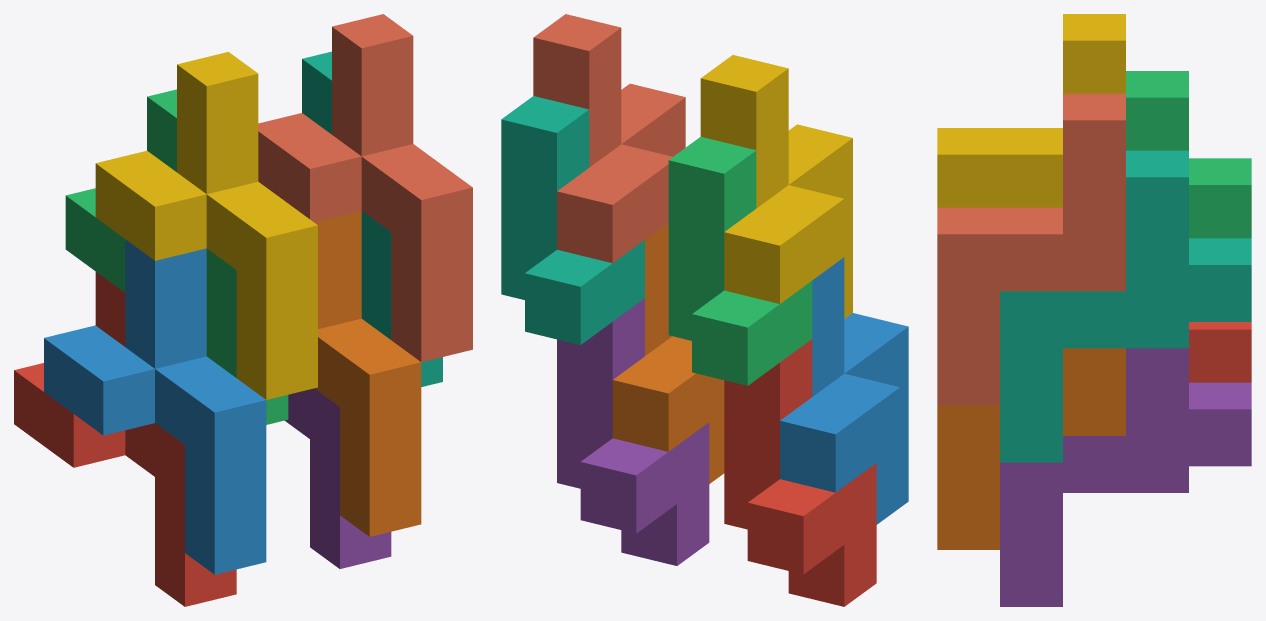
The model's file is tiling.obj.
3 views of the same model, side by side, from view 1: azimuth 30°, elevation 25°; view 2: azimuth 150°, elevation 25°; view 3: azimuth 270°, elevation 25° (orthographic). The views are drawn at different scales.
Parts seen in each view (by area): view 1: copy_1_domain_4, copy_1_domain_8, copy_1_domain_2, copy_1_domain_6, copy_1_domain_1, copy_1_domain_3, copy_1_domain_5, copy_1_domain_7; view 2: copy_1_domain_4, copy_1_domain_8, copy_1_domain_1, copy_1_domain_5, copy_1_domain_3, copy_1_domain_7, copy_1_domain_2, copy_1_domain_6; view 3: copy_1_domain_7, copy_1_domain_8, copy_1_domain_5, copy_1_domain_4, copy_1_domain_6, copy_1_domain_3, copy_1_domain_1.
Boxes of the visible parts, x1=… form: copy_1_domain_4: x1=95, y1=52, x2=317, y2=399; copy_1_domain_8: x1=258, y1=14, x2=472, y2=361; copy_1_domain_2: x1=44, y1=239, x2=266, y2=574; copy_1_domain_6: x1=314, y1=210, x2=421, y2=536; copy_1_domain_1: x1=14, y1=272, x2=236, y2=606; copy_1_domain_3: x1=65, y1=89, x2=288, y2=424; copy_1_domain_5: x1=285, y1=388, x2=391, y2=568; copy_1_domain_7: x1=302, y1=51, x2=442, y2=386; copy_1_domain_4: x1=700, y1=55, x2=852, y2=318; copy_1_domain_8: x1=533, y1=14, x2=685, y2=263; copy_1_domain_1: x1=724, y1=339, x2=876, y2=606; copy_1_domain_5: x1=557, y1=298, x2=709, y2=565; copy_1_domain_3: x1=668, y1=136, x2=812, y2=385; copy_1_domain_7: x1=501, y1=96, x2=644, y2=344; copy_1_domain_2: x1=780, y1=257, x2=908, y2=524; copy_1_domain_6: x1=612, y1=222, x2=724, y2=483; copy_1_domain_7: x1=1000, y1=150, x2=1251, y2=462; copy_1_domain_8: x1=937, y1=93, x2=1125, y2=405; copy_1_domain_5: x1=1000, y1=348, x2=1251, y2=606; copy_1_domain_4: x1=937, y1=14, x2=1125, y2=207; copy_1_domain_6: x1=937, y1=348, x2=1125, y2=549; copy_1_domain_3: x1=1126, y1=71, x2=1251, y2=238; copy_1_domain_1: x1=1189, y1=322, x2=1251, y2=382.
Bounding box in the file's own units: 6 × 9 × 5.
